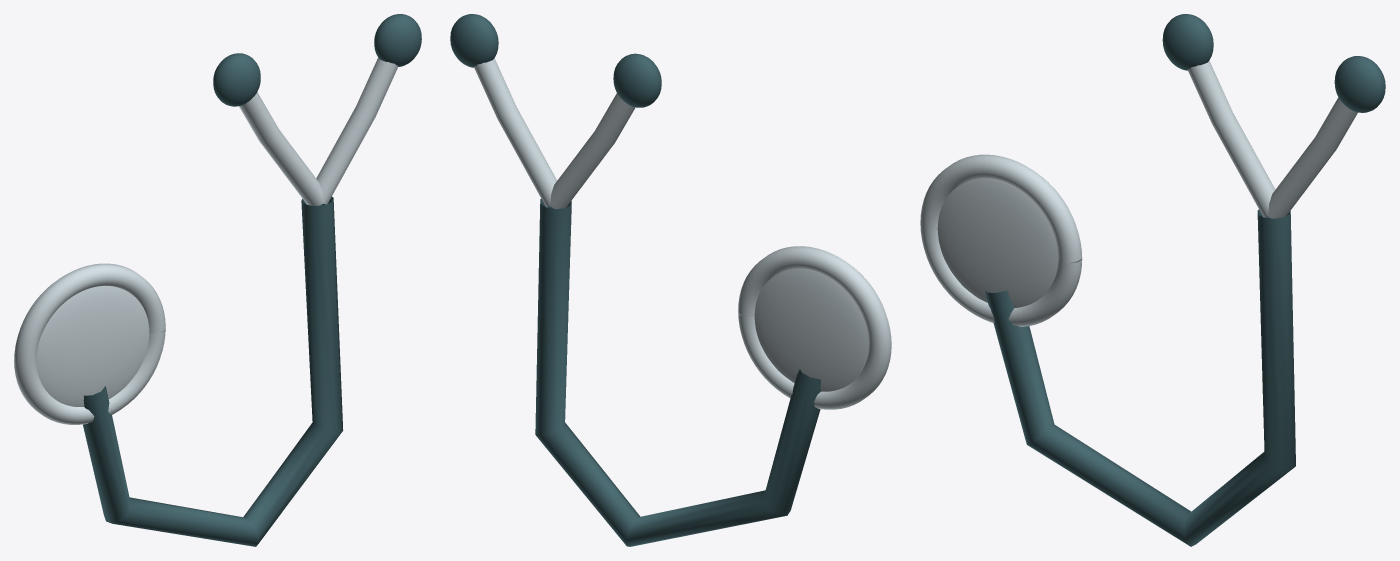
Rendered from tool-listen.glb.
3 views of the same model, side by side, from view 1: azimuth 30°, elevation 25°; view 2: azimuth 150°, elevation 25°; view 3: azimuth 330°, elevation 25° (orthographic). The views are drawn at different scales.
Visible parts, largest first — view 1: stethoscope tubing, diaphragm, chestpiece, binaural.001, binaural, ear tip.001, ear tip; view 2: stethoscope tubing, diaphragm, chestpiece, binaural.001, binaural, ear tip.001, ear tip; view 3: stethoscope tubing, diaphragm, chestpiece, binaural, binaural.001, ear tip, ear tip.001.
Boxes of the visible parts, x1,y1,x2,y2 form: stethoscope tubing: [83, 196, 343, 546]; diaphragm: [36, 286, 149, 406]; chestpiece: [14, 263, 165, 424]; binaural.001: [316, 58, 398, 204]; binaural: [239, 92, 323, 206]; ear tip.001: [213, 53, 260, 106]; ear tip: [374, 14, 421, 66]; stethoscope tubing: [535, 199, 820, 546]; diaphragm: [754, 269, 868, 391]; chestpiece: [738, 246, 891, 409]; binaural.001: [474, 58, 557, 207]; binaural: [550, 93, 635, 209]; ear tip.001: [613, 53, 661, 107]; ear tip: [450, 14, 498, 67]; stethoscope tubing: [985, 209, 1295, 546]; diaphragm: [937, 178, 1069, 307]; chestpiece: [920, 154, 1082, 326]; binaural: [1188, 60, 1275, 217]; binaural.001: [1268, 97, 1357, 218]; ear tip: [1334, 56, 1385, 112]; ear tip.001: [1162, 14, 1213, 70].
Size of the model in its own units: 1.04 by 1.16 by 0.134.
